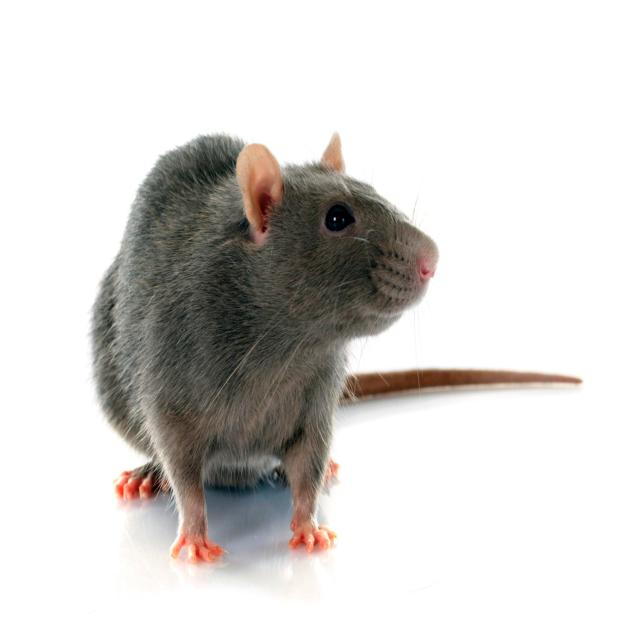rat: (92, 133, 581, 563)
